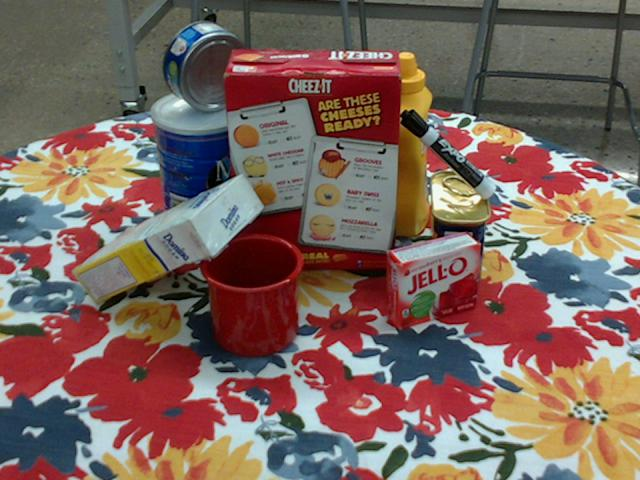cracker_box: (222, 50, 403, 270)
gelatin_box: (386, 232, 481, 330)
large_marker: (400, 110, 496, 199)
master_chef_can: (152, 88, 254, 249)
mug: (199, 232, 305, 356)
mustard_bottle: (378, 53, 433, 238)
potted_meat_can: (429, 171, 491, 291)
sugar_box: (70, 174, 264, 304)
tomato_soup_can: (301, 105, 362, 210)
tuna_fish_can: (163, 21, 249, 111)
